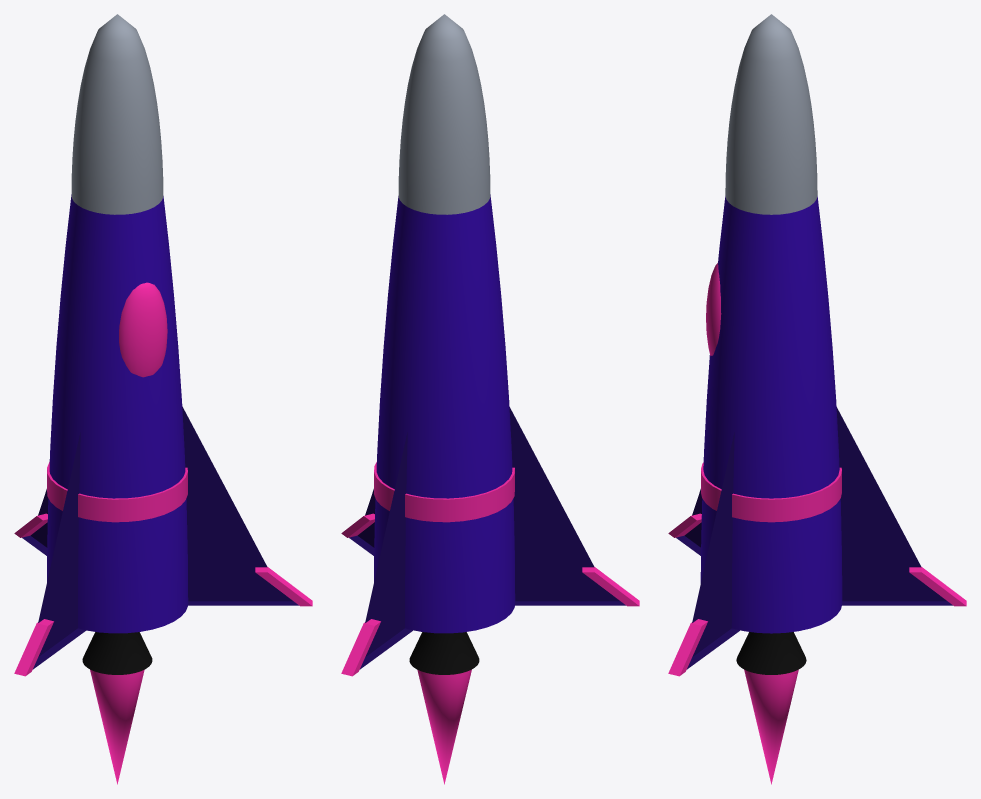
File: Rocket_25_VioletViper.obj
3 renders of one model, left to right at view 1: azimuth 30°, elevation 25°; view 2: azimuth 150°, elevation 25°; view 3: azimuth 270°, elevation 25°, orthographic.
Visible parts, largest first — view 1: R25_Body, R25_Nose, R25_Fin_3, R25_Fin_2, R25_Cockpit, R25_Band_1, R25_Flame_1, R25_Nozzle_1, R25_FinGlow_2, R25_FinGlow_3, R25_Fin_1; view 2: R25_Body, R25_Nose, R25_Fin_2, R25_Fin_1, R25_Band_1, R25_Flame_1, R25_Nozzle_1, R25_FinGlow_1, R25_FinGlow_2, R25_Fin_3; view 3: R25_Body, R25_Nose, R25_Fin_1, R25_Fin_3, R25_Band_1, R25_Flame_1, R25_Nozzle_1, R25_Cockpit, R25_FinGlow_3, R25_FinGlow_1, R25_Fin_2.
Boxes of the visible parts, x1=… form: R25_Body: x1=47, y1=194, x2=188, y2=633; R25_Nose: x1=71, y1=14, x2=163, y2=214; R25_Fin_3: x1=182, y1=406, x2=298, y2=605; R25_Fin_2: x1=33, y1=432, x2=85, y2=669; R25_Cockpit: x1=119, y1=282, x2=167, y2=377; R25_Band_1: x1=47, y1=462, x2=187, y2=522; R25_Flame_1: x1=90, y1=669, x2=144, y2=784; R25_Nozzle_1: x1=82, y1=632, x2=152, y2=674; R25_FinGlow_2: x1=14, y1=619, x2=53, y2=676; R25_FinGlow_3: x1=255, y1=567, x2=312, y2=606; R25_Fin_1: x1=22, y1=489, x2=48, y2=555; R25_Body: x1=374, y1=194, x2=515, y2=633; R25_Nose: x1=398, y1=14, x2=490, y2=214; R25_Fin_2: x1=509, y1=407, x2=625, y2=605; R25_Fin_1: x1=360, y1=432, x2=412, y2=669; R25_Band_1: x1=374, y1=462, x2=514, y2=522; R25_Flame_1: x1=417, y1=669, x2=471, y2=784; R25_Nozzle_1: x1=409, y1=632, x2=479, y2=674; R25_FinGlow_1: x1=341, y1=619, x2=380, y2=676; R25_FinGlow_2: x1=582, y1=567, x2=639, y2=606; R25_Fin_3: x1=349, y1=489, x2=375, y2=555; R25_Body: x1=700, y1=196, x2=842, y2=633; R25_Nose: x1=725, y1=14, x2=817, y2=214; R25_Fin_1: x1=836, y1=407, x2=952, y2=605; R25_Fin_3: x1=687, y1=432, x2=739, y2=669; R25_Band_1: x1=701, y1=462, x2=841, y2=522; R25_Flame_1: x1=744, y1=669, x2=798, y2=784; R25_Nozzle_1: x1=736, y1=632, x2=806, y2=674; R25_Cockpit: x1=706, y1=263, x2=721, y2=355; R25_FinGlow_3: x1=668, y1=619, x2=707, y2=676; R25_FinGlow_1: x1=909, y1=567, x2=966, y2=606; R25_Fin_2: x1=676, y1=489, x2=702, y2=555.
Size of the model in its own units: 4.13 by 10.2 by 3.58.
